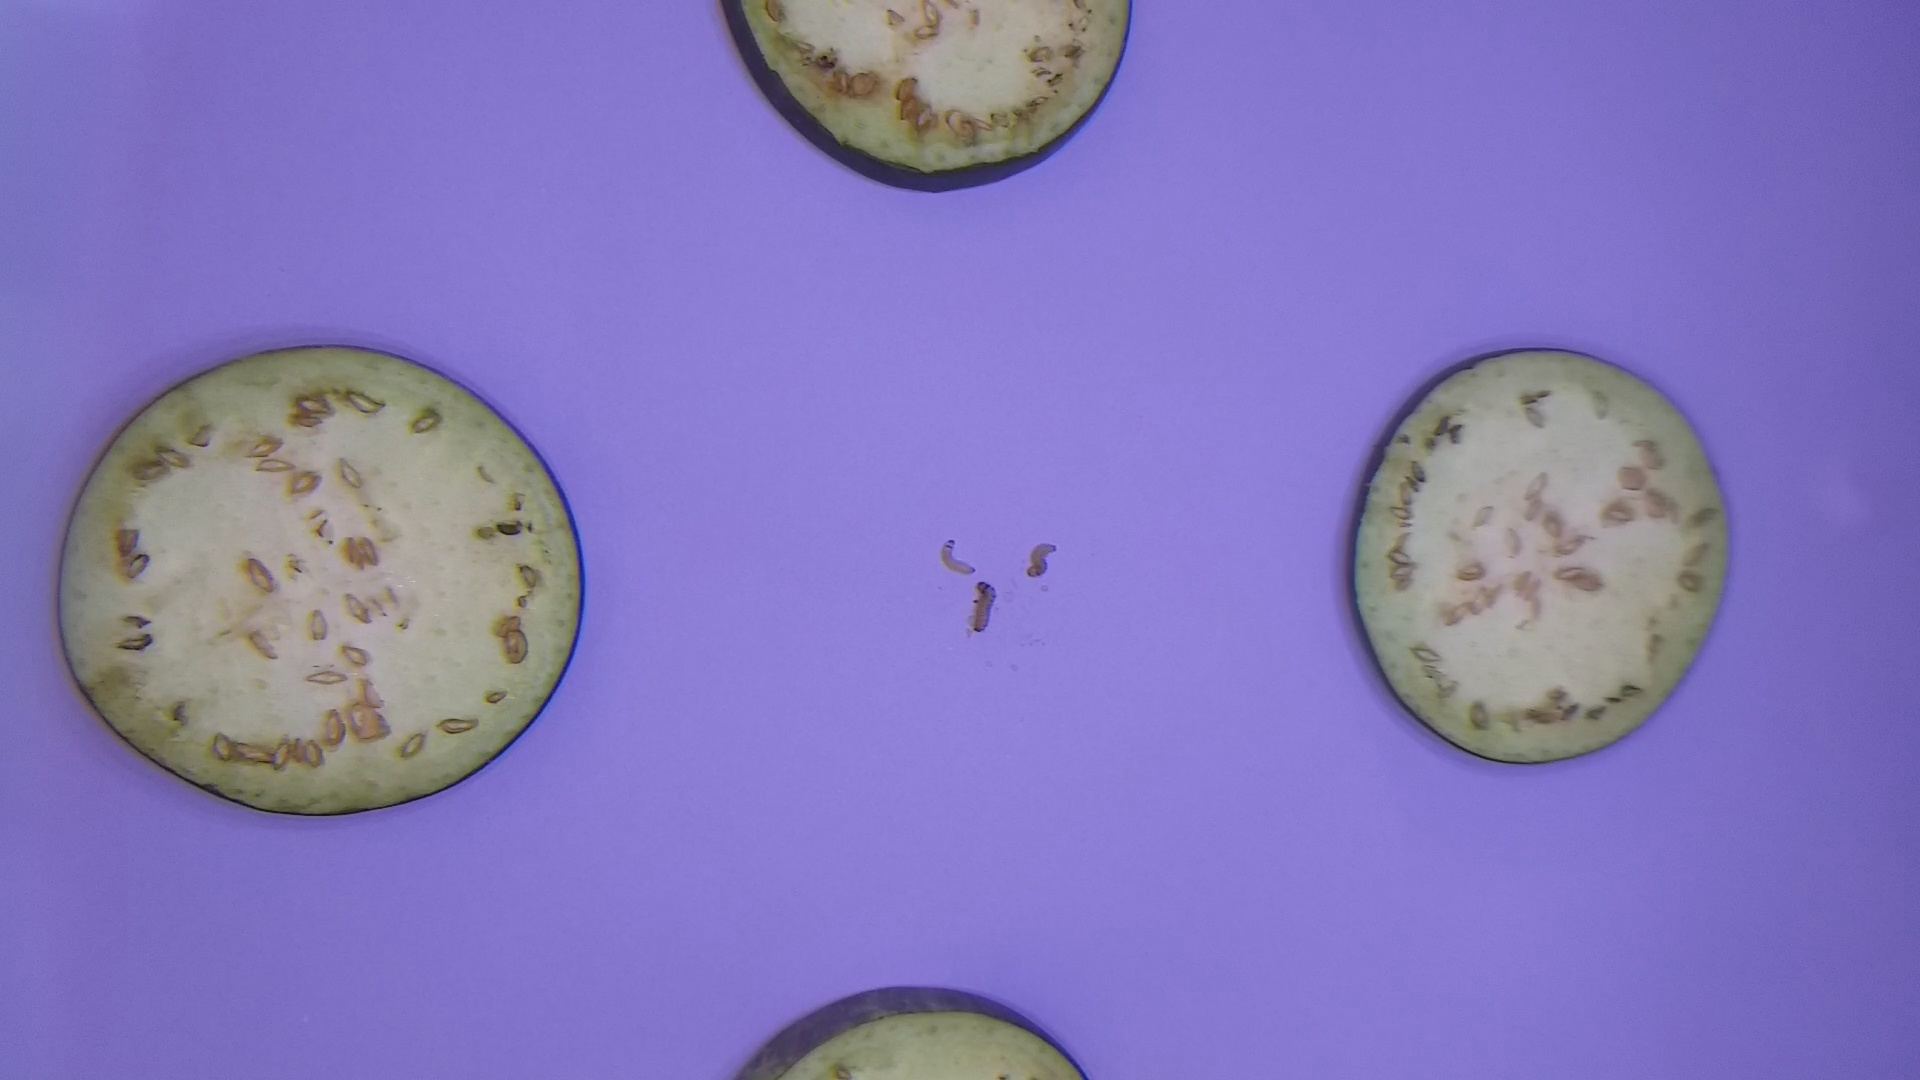efsb: (936, 534, 978, 579), (969, 579, 1002, 636), (1021, 541, 1062, 582)
eggplant: (46, 320, 597, 825), (1349, 339, 1742, 770), (712, 1, 1138, 196), (720, 980, 1112, 1080)
